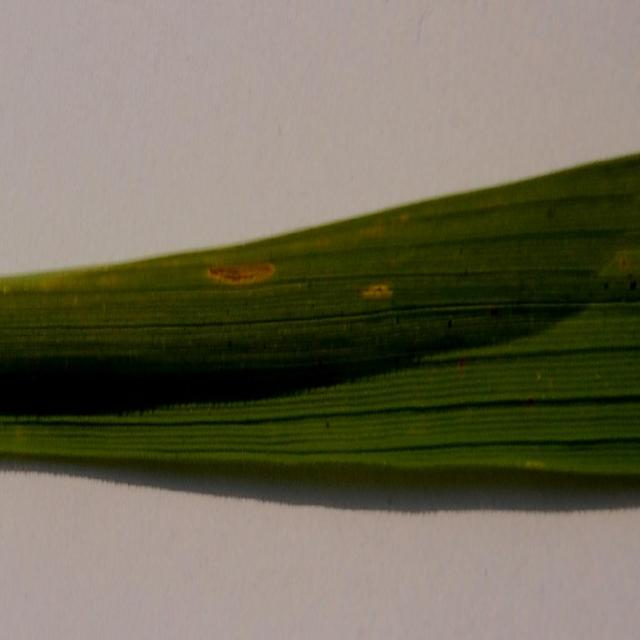Bacterial_Leaf_Blight: (176, 231, 292, 317), (344, 239, 437, 324)
